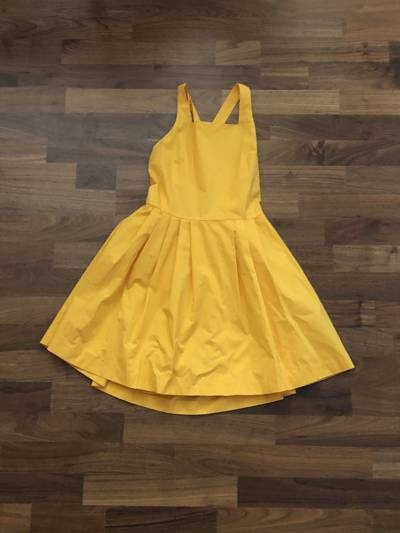Dress: (27, 40, 366, 431)
